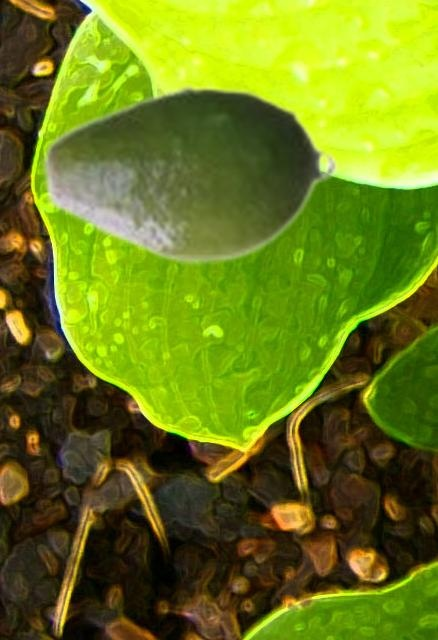avocado: (39, 81, 339, 266)
